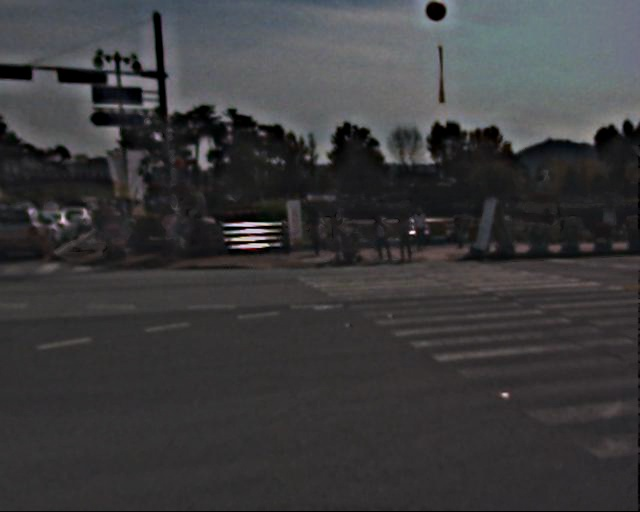person: (328, 203, 353, 263), (91, 201, 126, 240), (165, 206, 187, 260), (399, 210, 420, 262), (374, 213, 394, 262), (310, 208, 330, 256), (414, 205, 433, 252)
